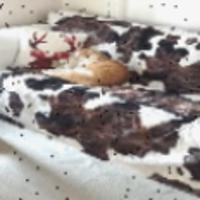asleep: (42, 47, 129, 85)
